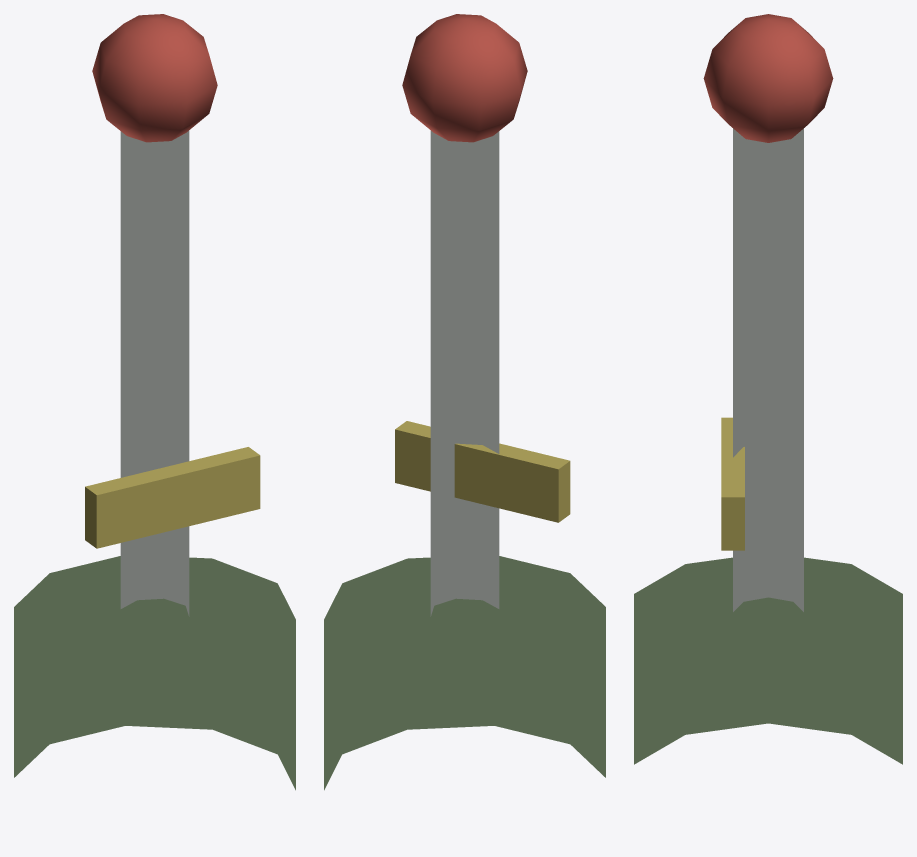
File: g_spawnbeacon.glb
3 views of the same model, side by side, from view 1: azimuth 30°, elevation 25°; view 2: azimuth 150°, elevation 25°; view 3: azimuth 270°, elevation 25° (orthographic).
Visible parts, largest first — view 1: body; view 2: body; view 3: body.
Boxes of the visible parts, x1,y1,x2,y2 form: body: [14, 14, 295, 790]; body: [324, 14, 605, 790]; body: [634, 14, 902, 764].
Size of the model in its own units: 0.24 by 0.715 by 0.2283.
